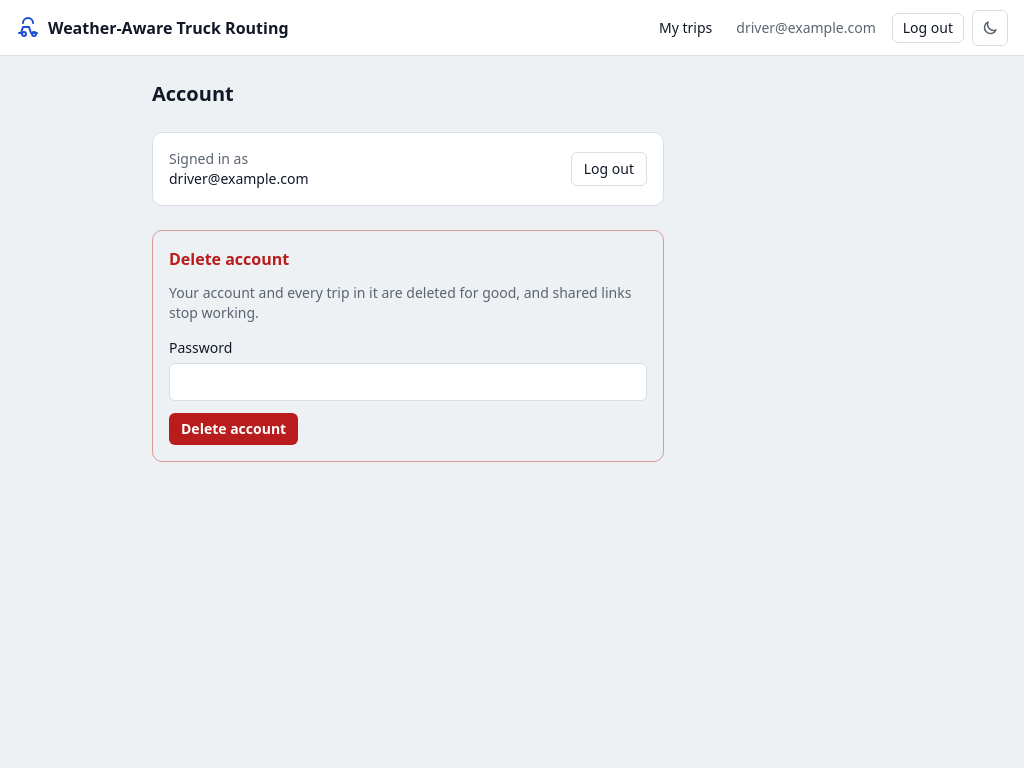
Test: account page › puts a wrong password back on its field, announced, and deletes nothing
The width and height of the screenshot is (1024, 768).
Expected: the heading "Account" is shown, [152,80,234,107]
Type "wrong-one-1" into the password field labelled "Password".
click(408, 382); type("wrong-one-1")  # box [169,363,647,401]
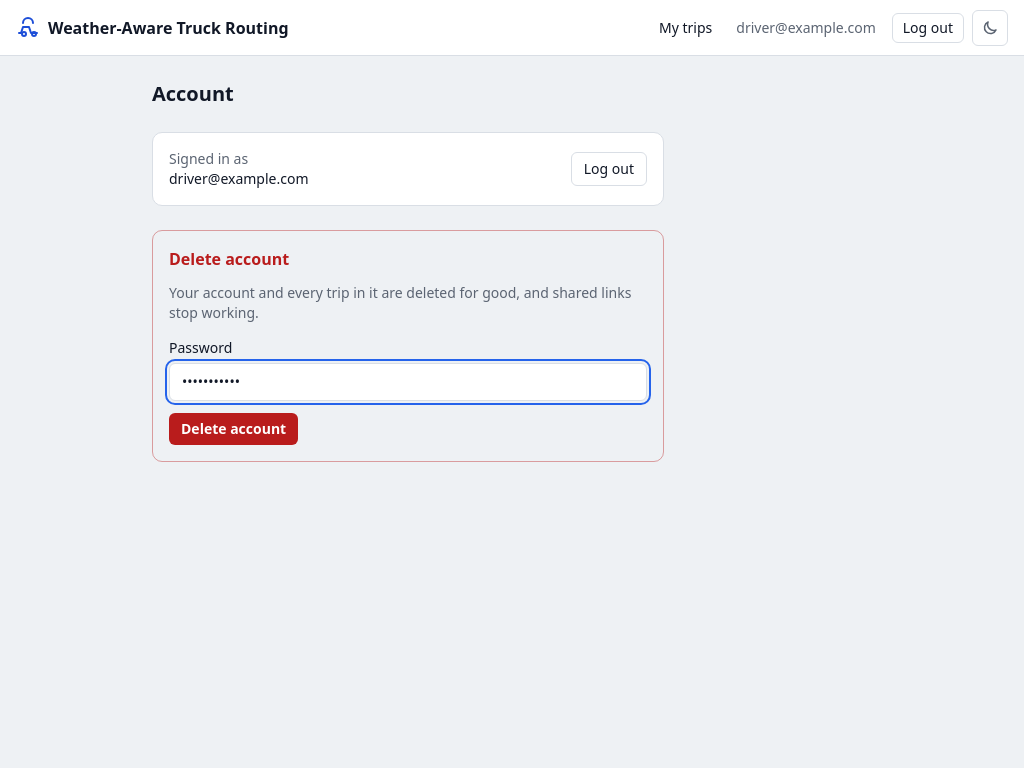
Click the button "Delete account".
click(234, 429)  # box [169,413,298,445]
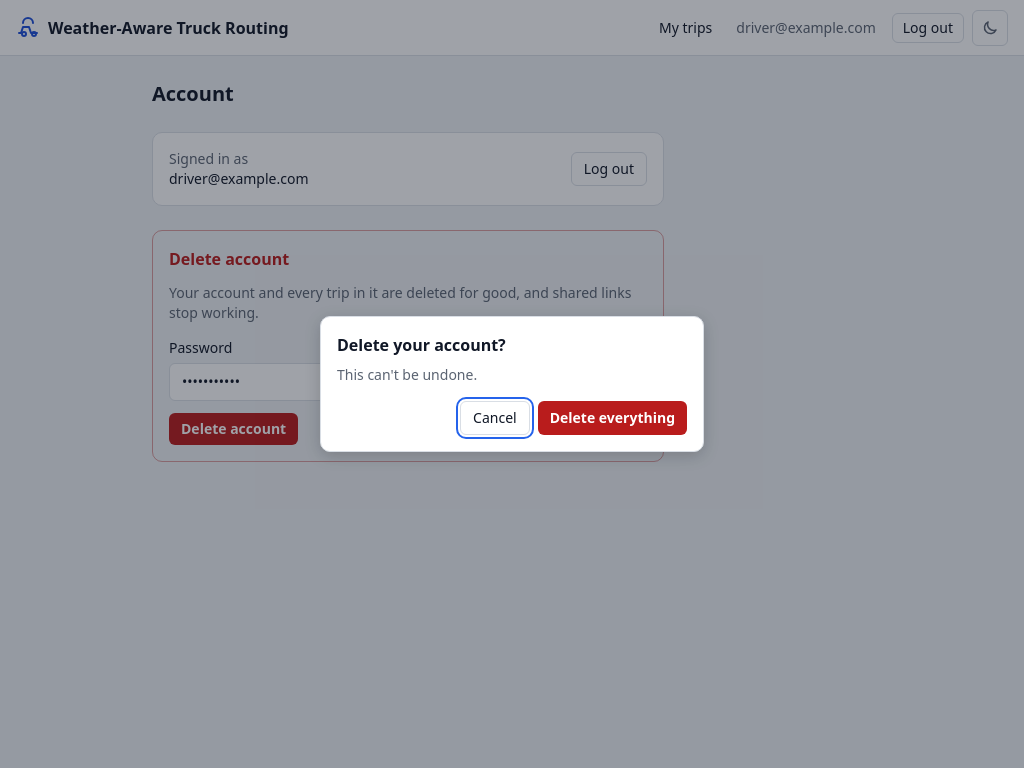
Click the button "Delete everything".
click(612, 418)  # box [538,401,687,435]
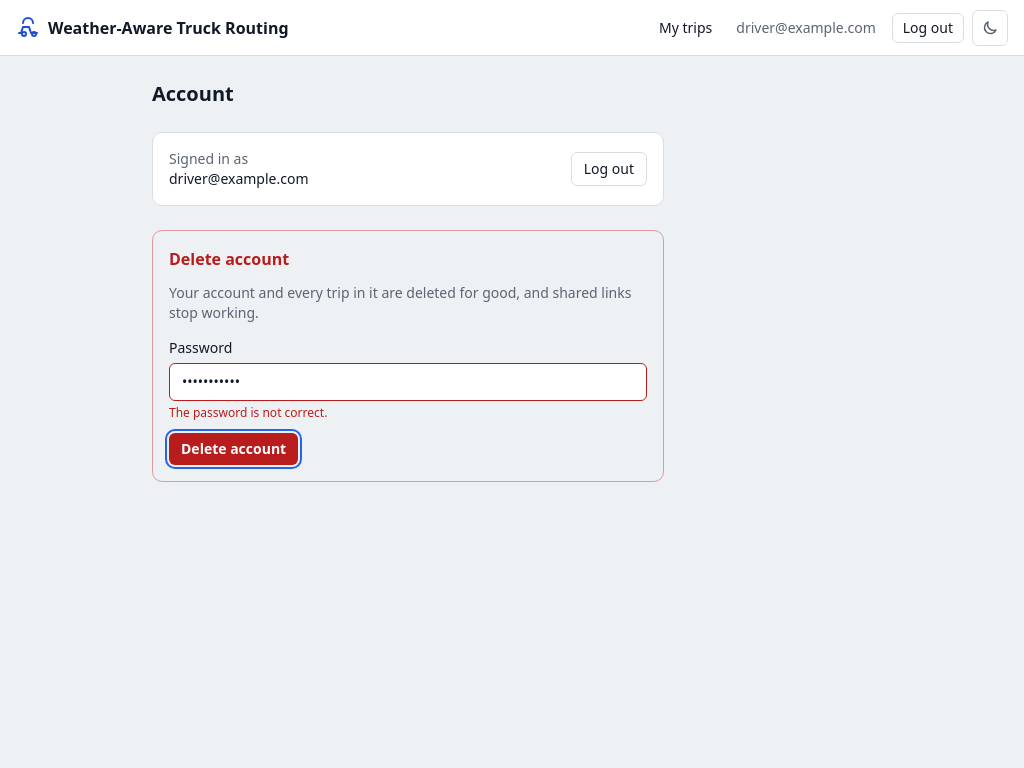
Expected: the heading "Account" is shown, [152,80,234,107]
Now the message reads "The password is not correct.", box [169,404,327,421]
Now the dialog is gone
